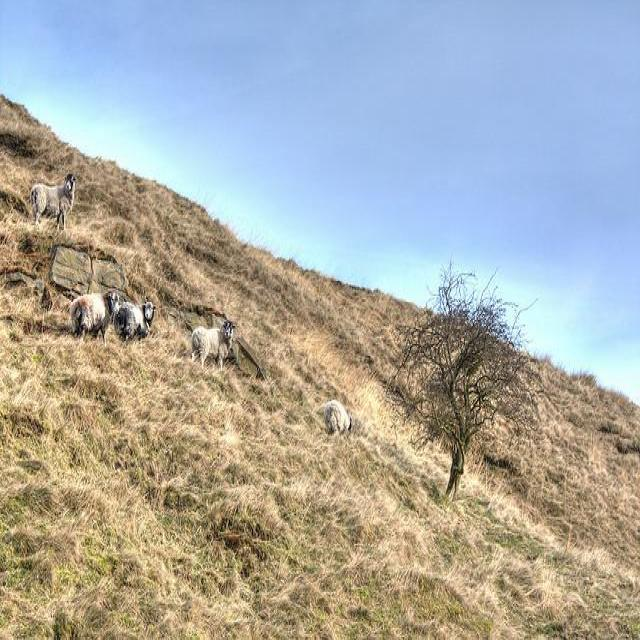Sheep: (70, 291, 118, 347), (31, 174, 76, 232), (192, 318, 237, 372)
